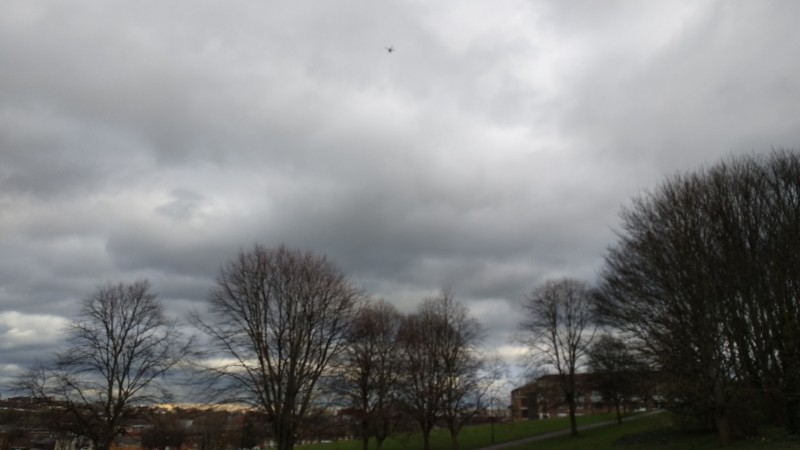drone: (386, 46, 395, 53)
